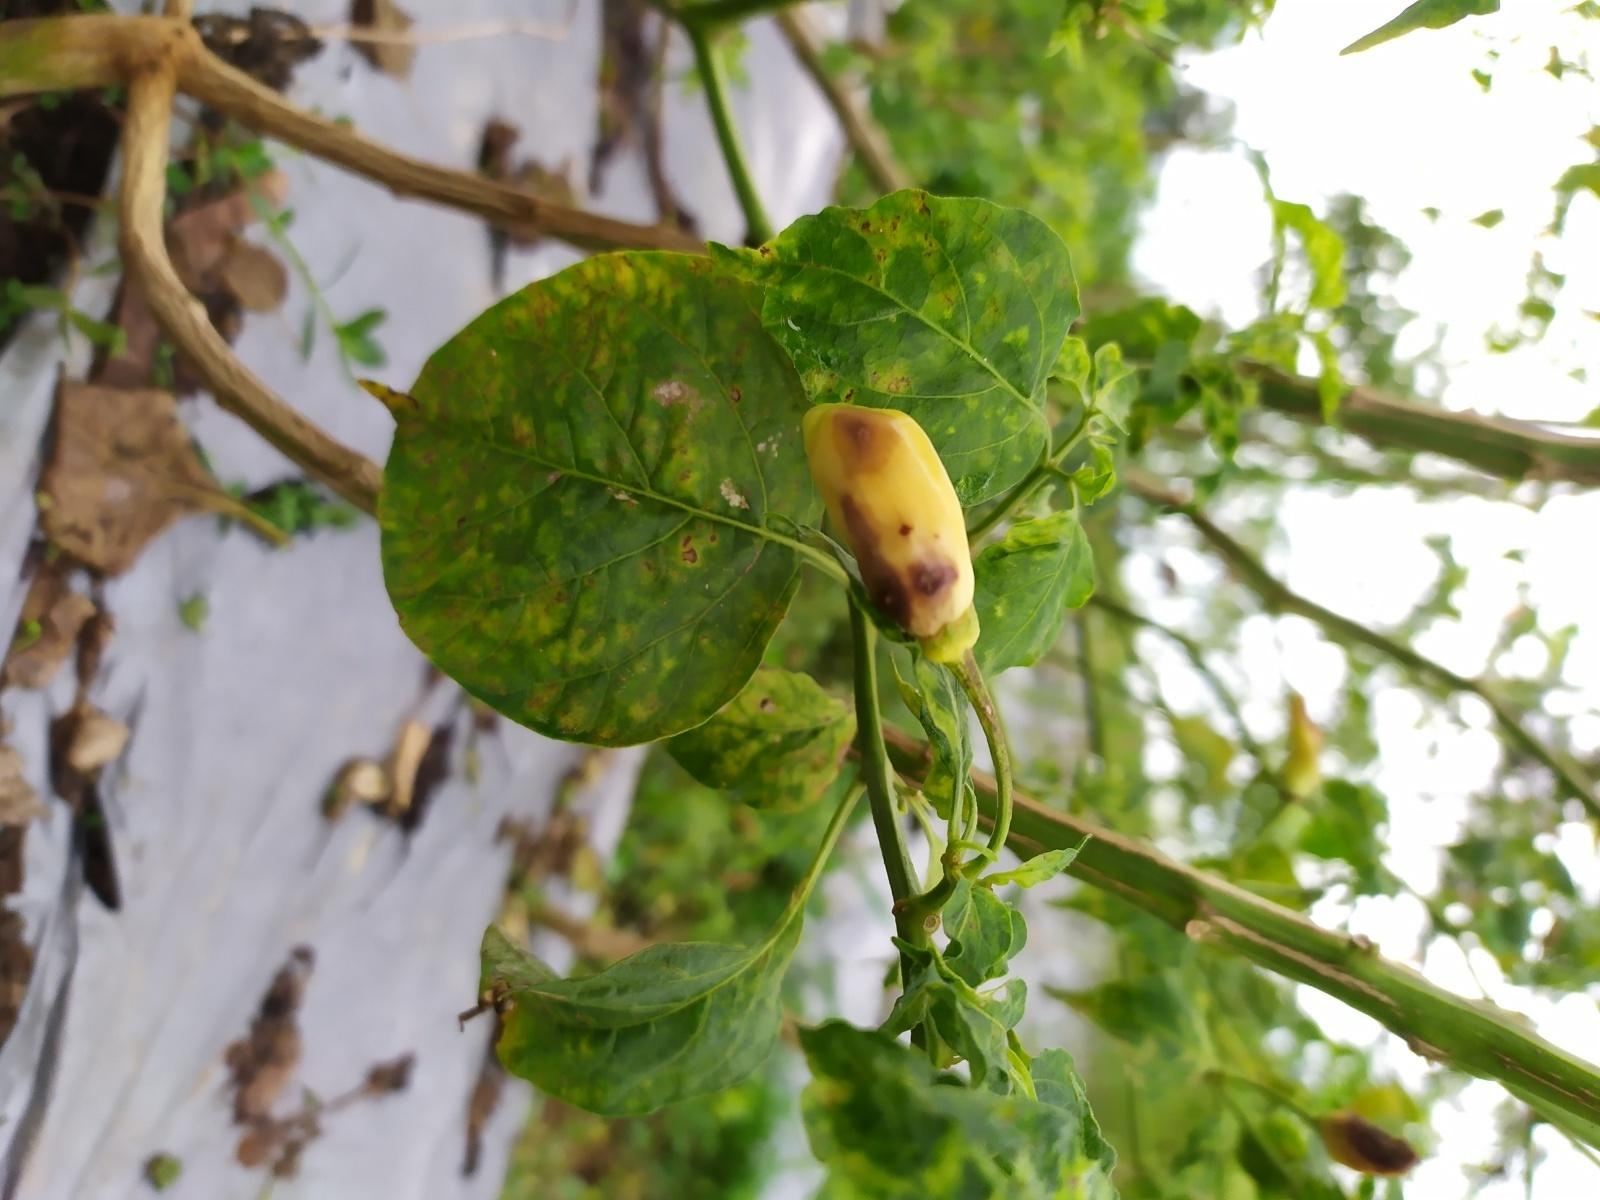antraknosa: (803, 403, 975, 655)
